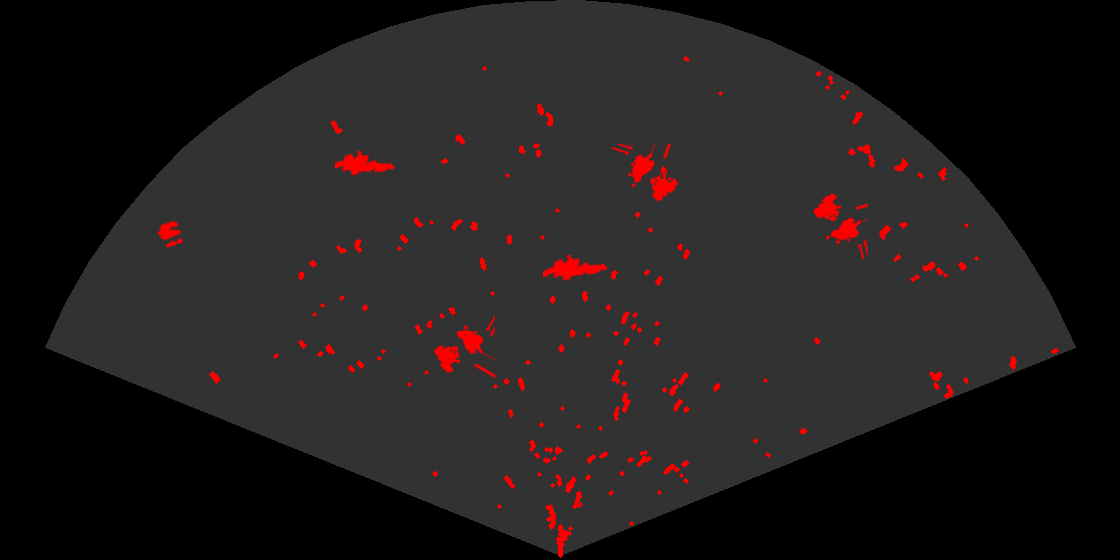ball: (156, 219, 185, 249)
cage: (433, 314, 495, 380), (612, 144, 680, 203), (812, 191, 868, 259)
frogman: (543, 253, 609, 282), (335, 148, 397, 177)
